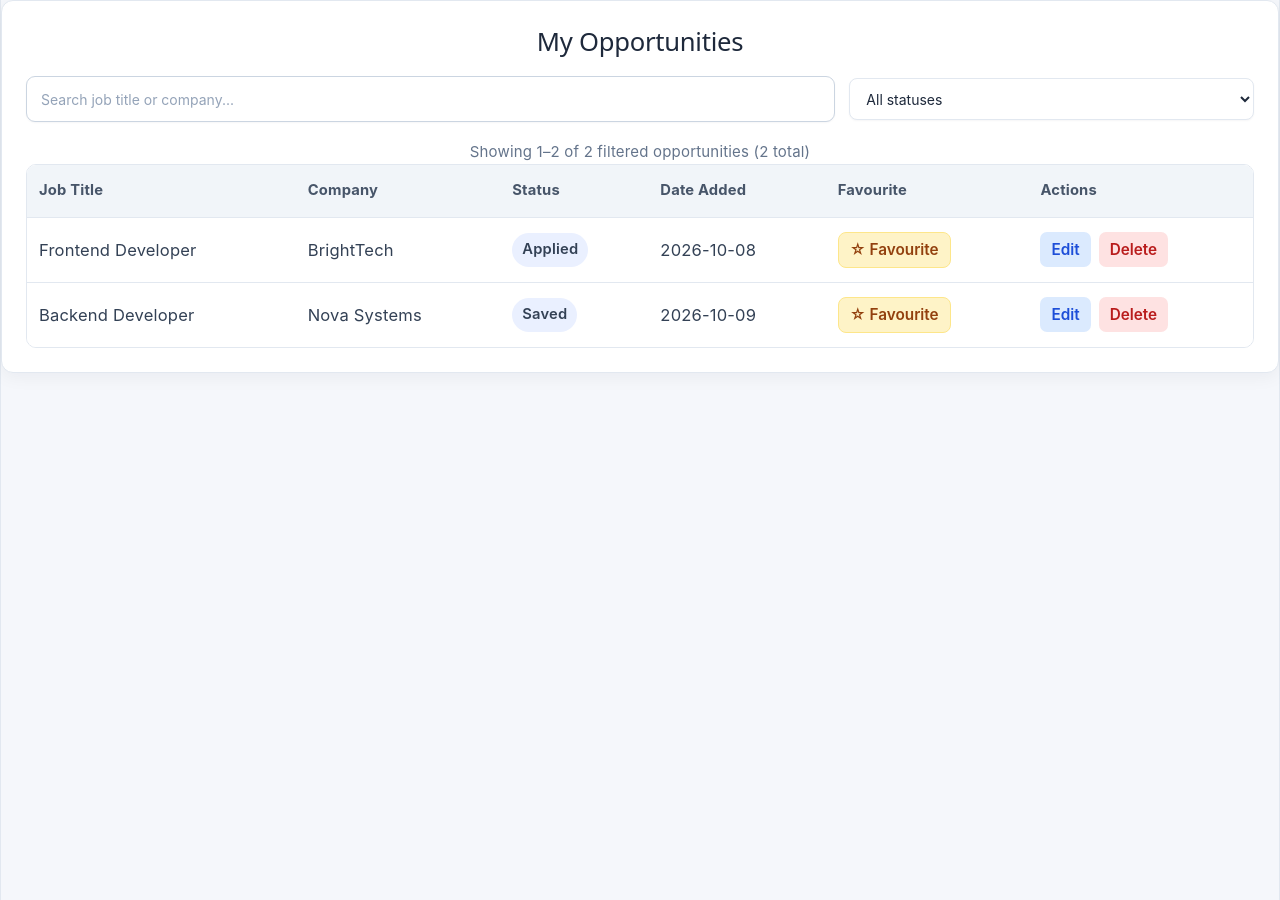
Scenario: JobTable search and filtering › searches jobs by company
Step 1. Type "BrightTech" into the search field labelled "Search job title or company..." → [431, 99], box [26,76,835,122]
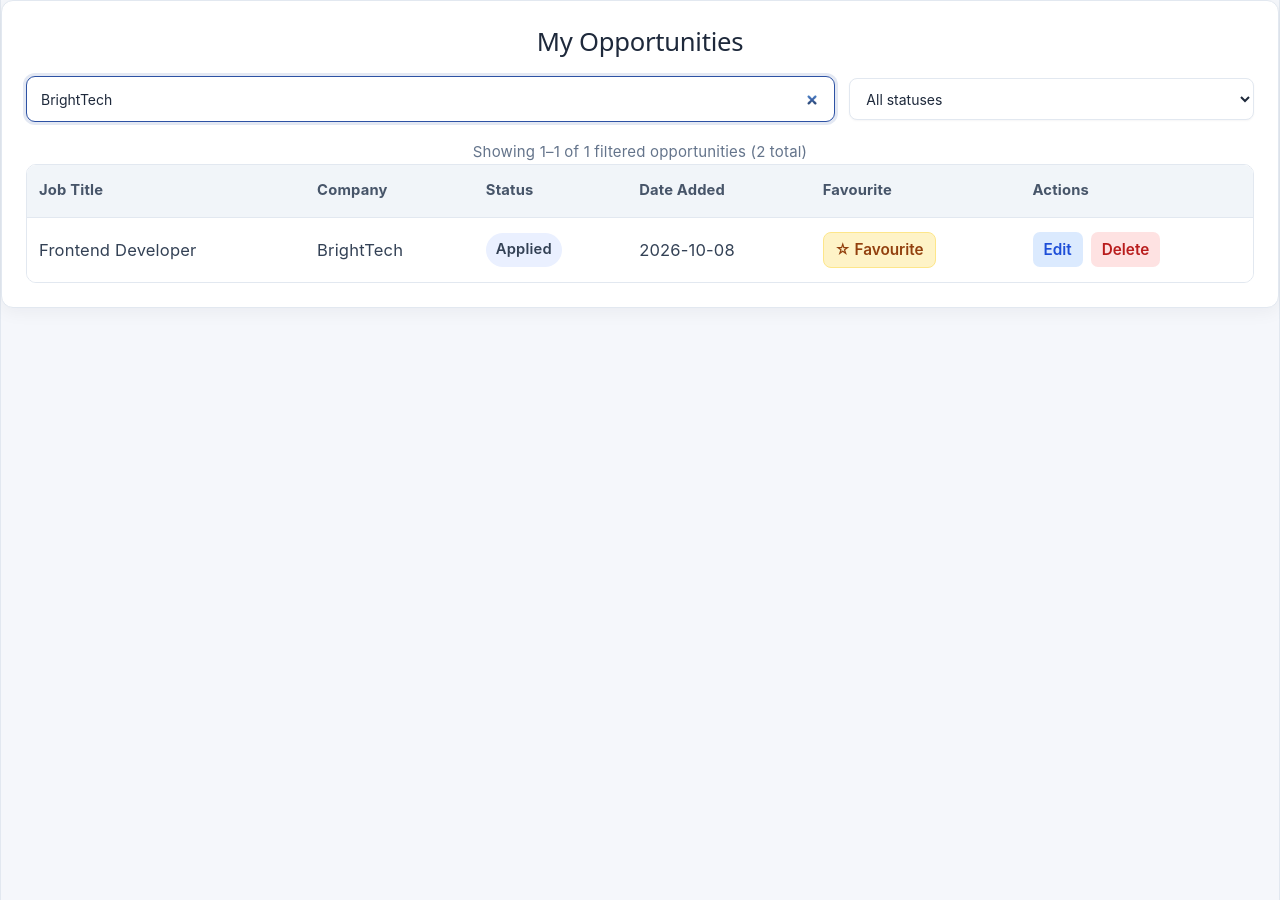
Expected: the text "Frontend Developer" is shown, [27,217,305,282]
Expected: the text "Backend Developer" is gone
